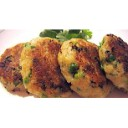cutlet: (60, 39, 106, 98), (24, 38, 62, 99), (101, 34, 128, 87), (1, 42, 25, 96)
